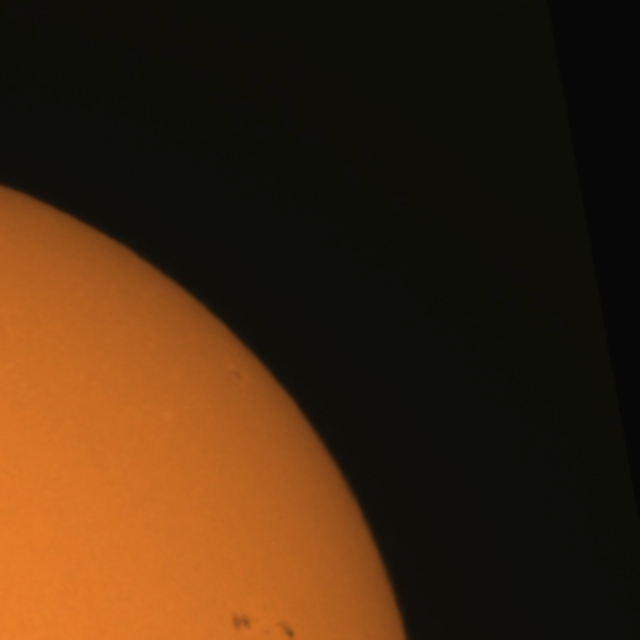sunspot: (226, 606, 294, 640), (266, 618, 298, 640), (229, 612, 254, 634)
